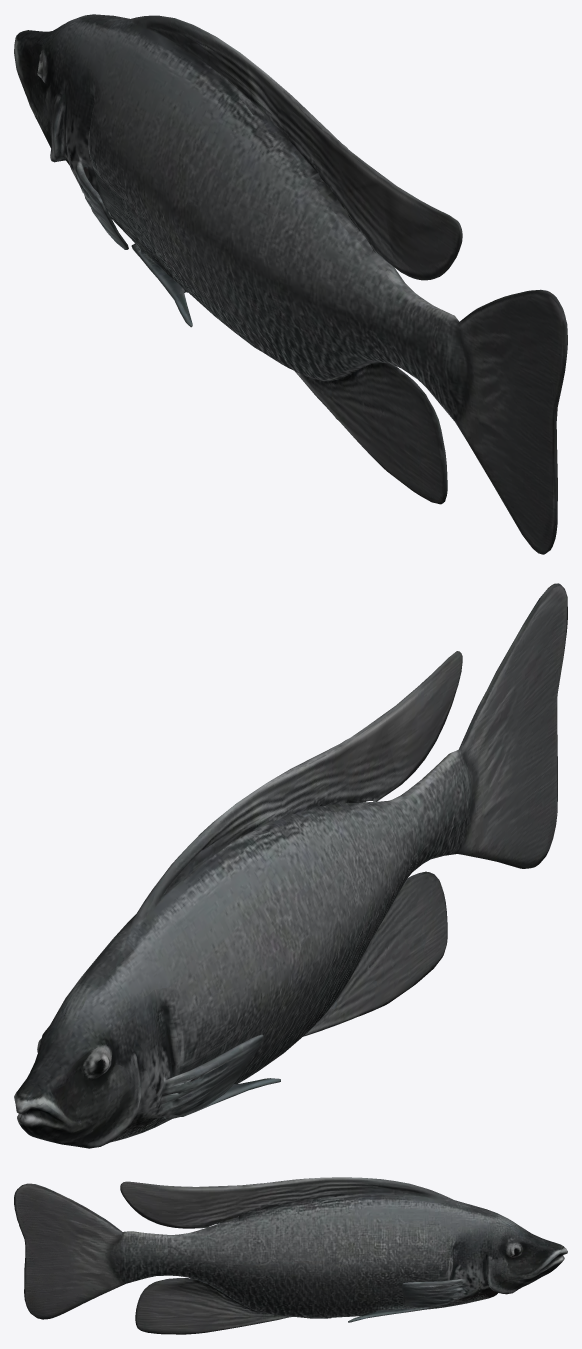
The model's file is tilapia.glb.
3 views of the same model, one above another, from view 1: azimuth 30°, elevation 25°; view 2: azimuth 150°, elevation 25°; view 3: azimuth 270°, elevation 25° (orthographic). The views are drawn at different scales.
Parts seen in each view (by area): view 1: geometry_0; view 2: geometry_0; view 3: geometry_0.
Part boxes in pixels (box(x1,y1,x2,y2)): geometry_0: box(14, 14, 567, 554); geometry_0: box(14, 583, 567, 1148); geometry_0: box(14, 1177, 567, 1334).
Size of the model in its own units: 0.1725 by 0.3134 by 1.
1 material, 1 textured.
